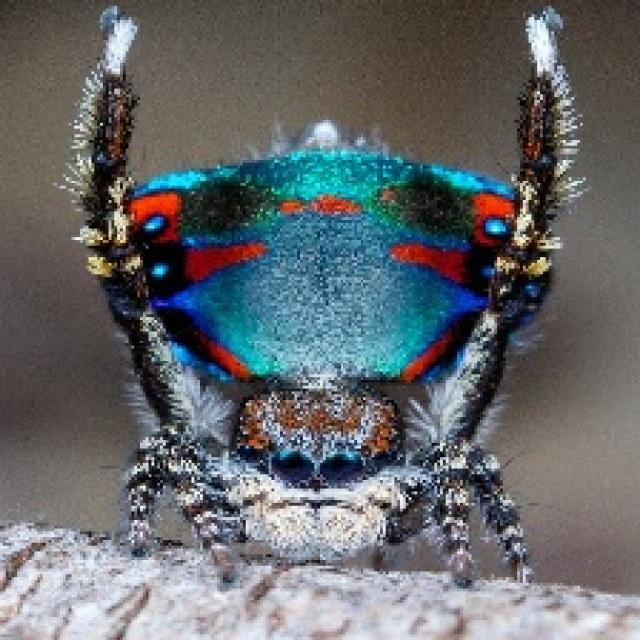Non venomous spider: (76, 95, 586, 514)
